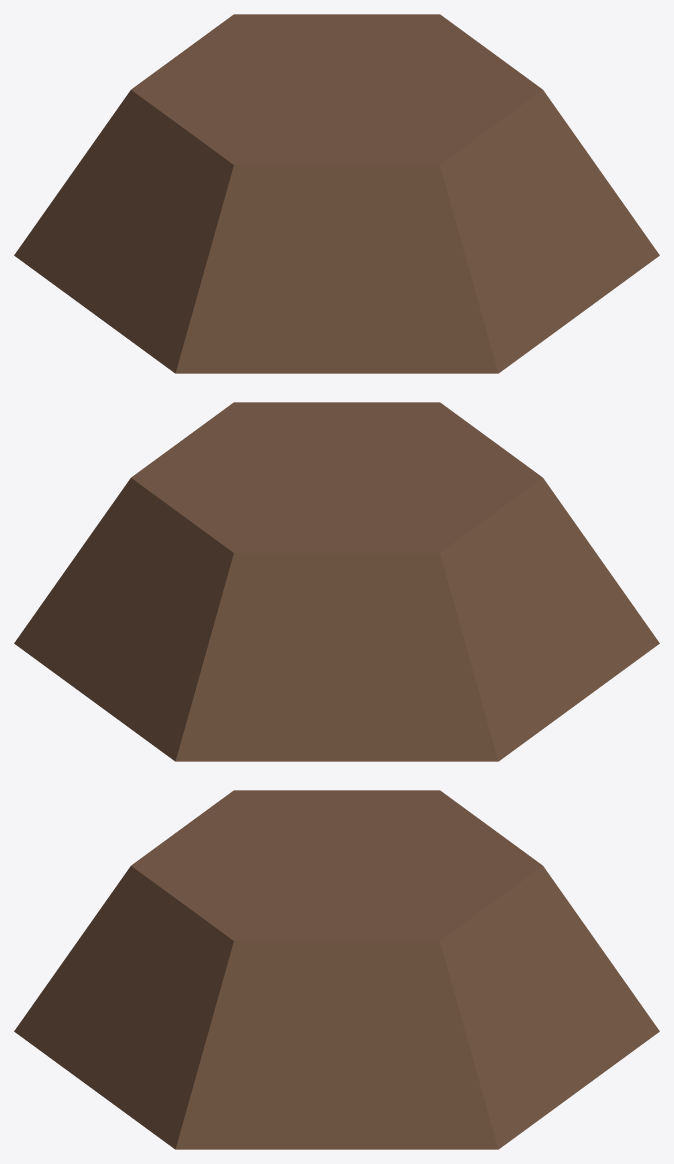
Rendered from stump.glb.
The picture shows the model from 3 angles, top to bottom: view 1: azimuth 30°, elevation 25°; view 2: azimuth 150°, elevation 25°; view 3: azimuth 270°, elevation 25°; orthographic projection.
Parts seen in each view (by area): view 1: Stump; view 2: Stump; view 3: Stump.
Part boxes in pixels (<box>): Stump: <box>14,14,659,373</box>; Stump: <box>14,402,659,761</box>; Stump: <box>14,790,659,1149</box>.
Size of the model in its own units: 0.7032 by 0.275 by 0.812.
